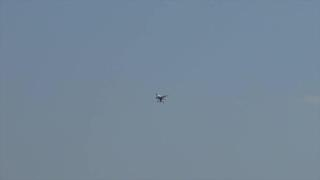UAV: (156, 94, 168, 104)
